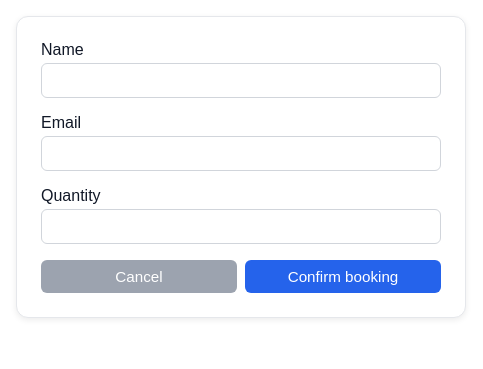
BookingForm integration › shows error when required fields are empty
Click the button "Confirm booking" at (343,276), box [245,260,441,293]
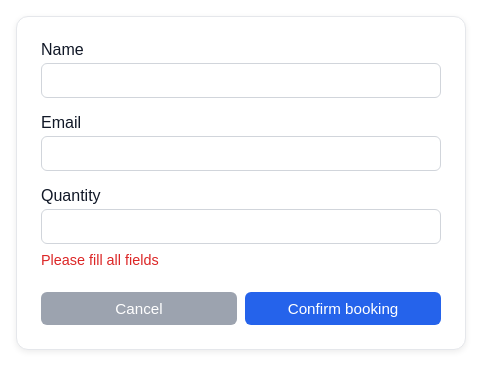
expect the text "Please fill all fields" is shown: met, box [41,252,159,268]
